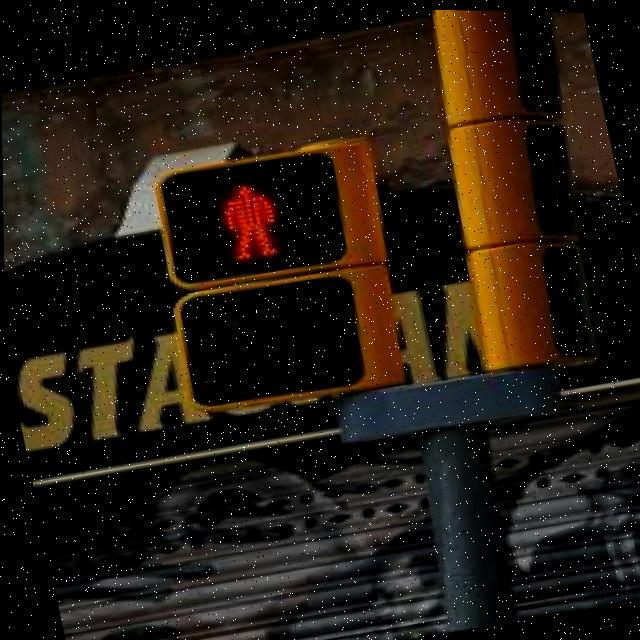red_light: (192, 167, 304, 275)
